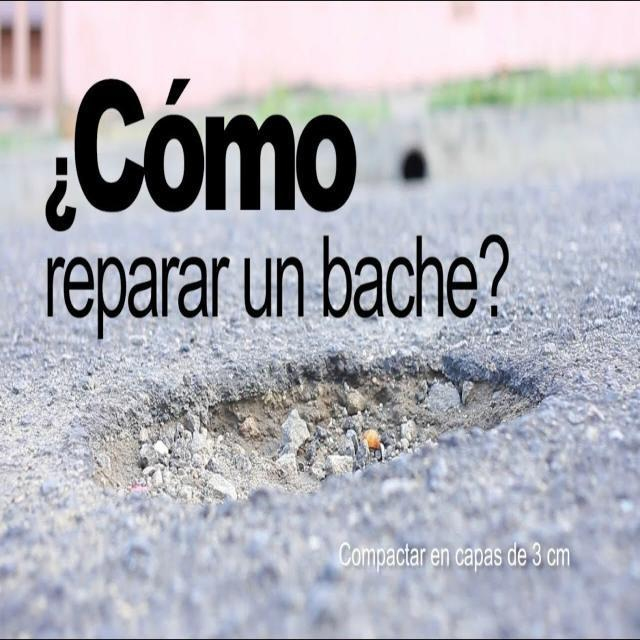Buraco: (78, 346, 563, 520)
